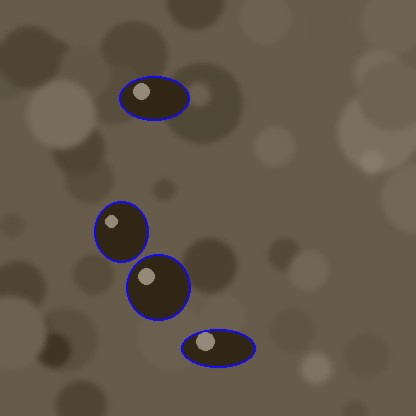gota: (126, 256, 190, 326), (94, 203, 148, 267), (119, 78, 189, 124), (181, 330, 255, 370)
